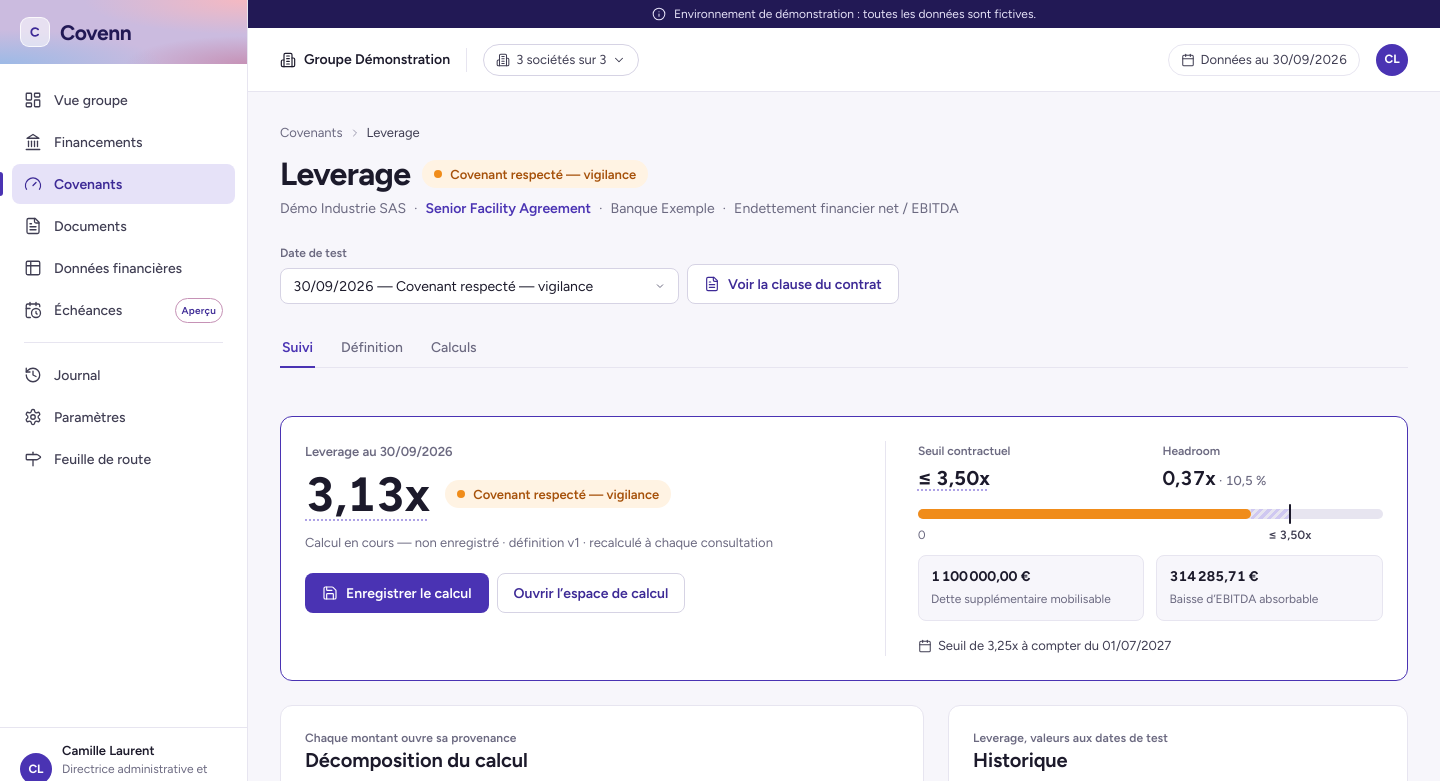
Test: BETA-12 — démonstration répétable dans le même onglet › défaut de l’audit : vider le stockage puis fermer la page ne réinjecte plus l’ancien calcul
Click the button "Enregistrer le calcul".
click(397, 593)  # box [305,573,488,613]
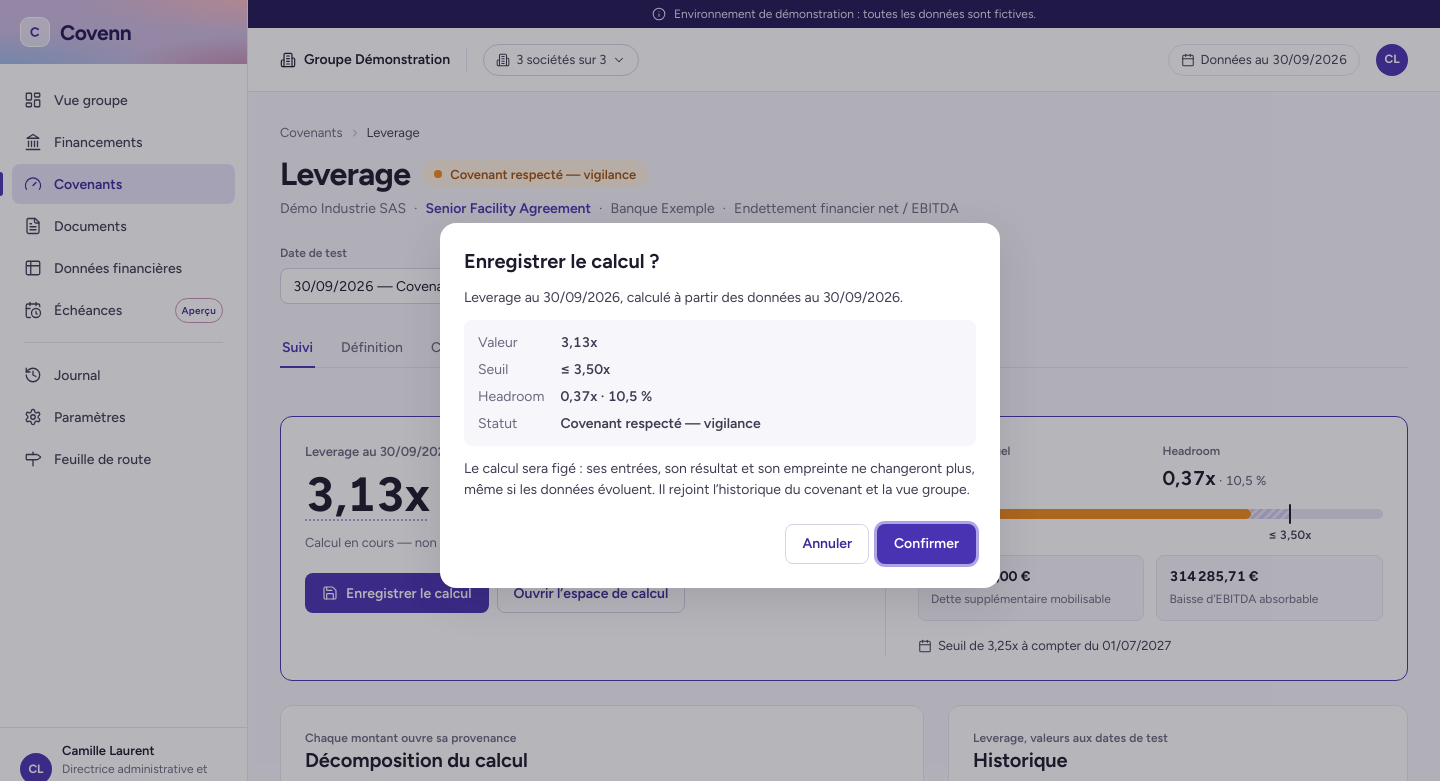
Click the button "Confirmer".
click(926, 544)  # box [877,524,976,564]
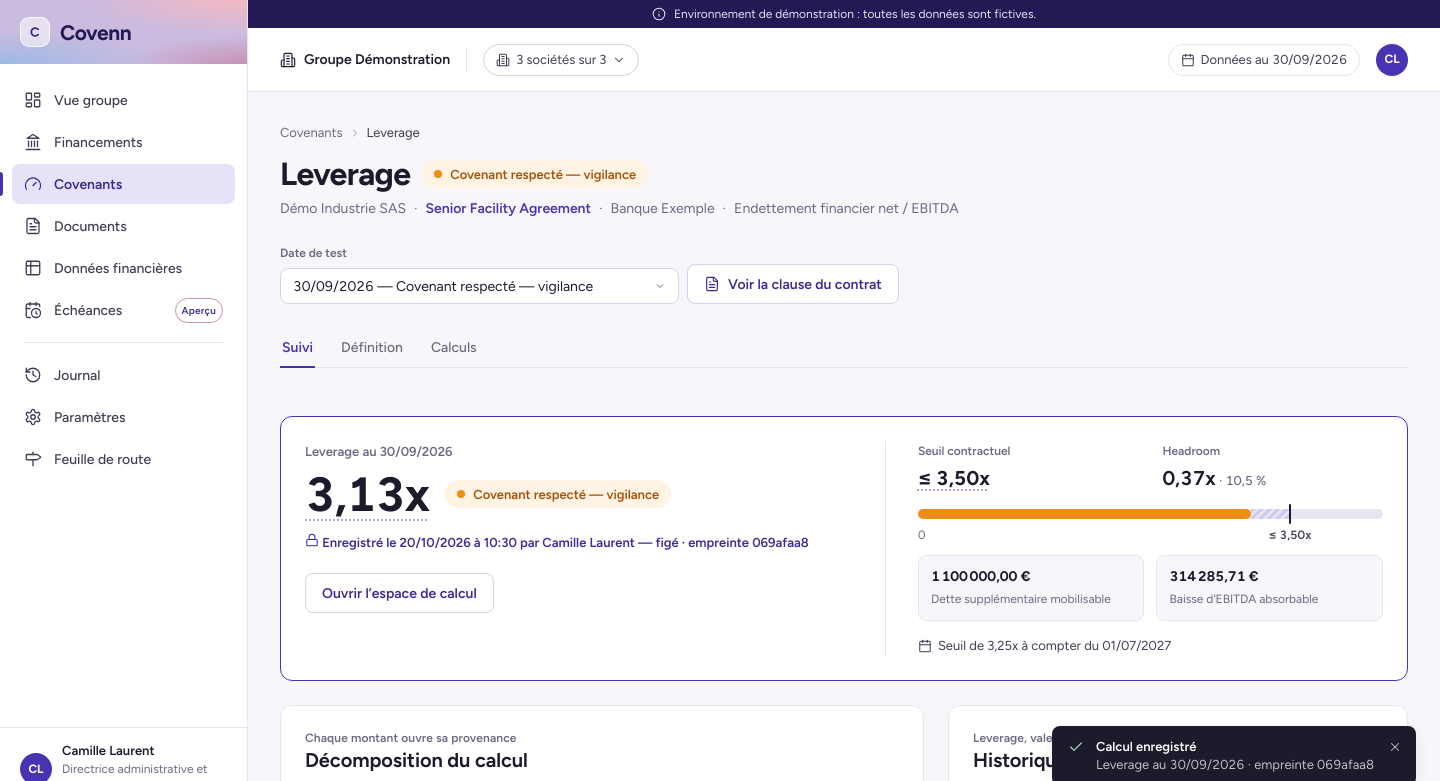
Expected: the text "Enregistré le 20/10/2026 à 10:30 par Camille Laurent — figé" is shown, [305,532,809,553]
